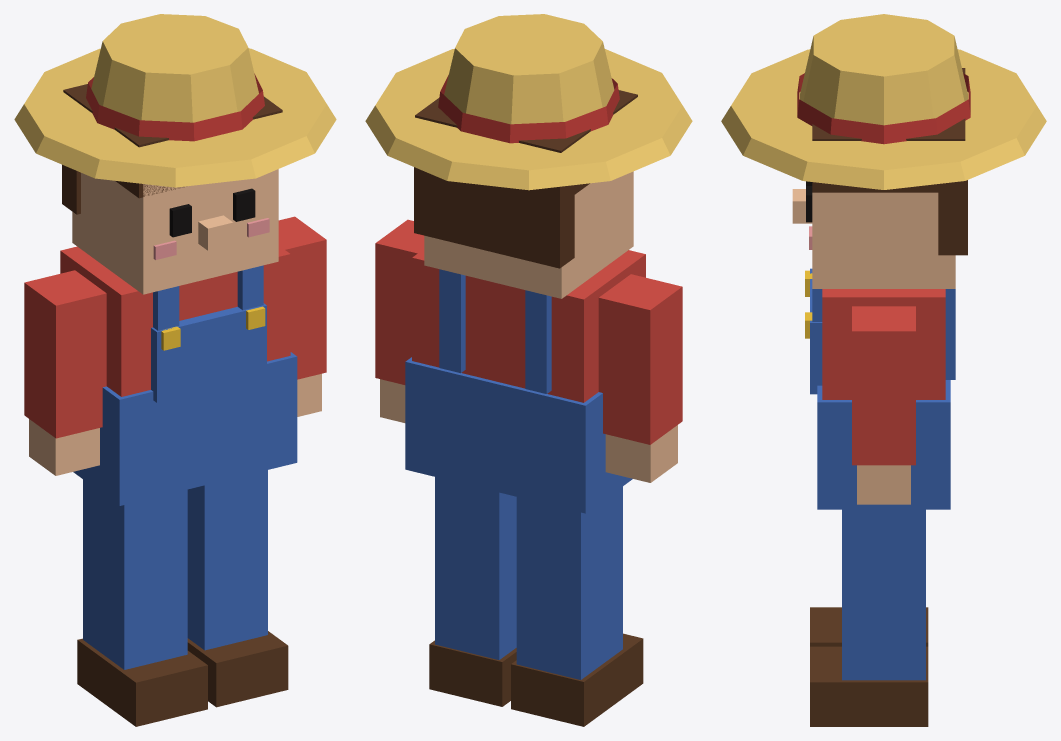
File: farmer.obj
3 views of the same model, side by side, from view 1: azimuth 30°, elevation 25°; view 2: azimuth 150°, elevation 25°; view 3: azimuth 270°, elevation 25° (orthographic).
Visible parts, largest first — view 1: head, body, leg_l, leg_r, arm_l, arm_r; view 2: head, body, leg_l, leg_r, arm_l, arm_r; view 3: head, leg_r, body, arm_r, leg_l.
Boxes of the visible parts, x1,y1,x2,y2 form: head: (14, 14, 336, 294); body: (60, 245, 297, 505); leg_l: (77, 479, 207, 726); leg_r: (187, 470, 288, 707); arm_l: (24, 270, 106, 475); arm_r: (278, 216, 326, 416); head: (365, 14, 692, 298); body: (405, 249, 645, 513); leg_l: (511, 486, 643, 726); leg_r: (429, 477, 516, 706); arm_l: (598, 274, 682, 482); arm_r: (375, 219, 424, 422); head: (721, 14, 1046, 288); leg_r: (810, 509, 928, 726); body: (805, 268, 955, 509); arm_r: (852, 306, 915, 504); leg_l: (810, 607, 928, 646).
Size of the model in its own units: 0.66 by 1.44 by 0.66.
